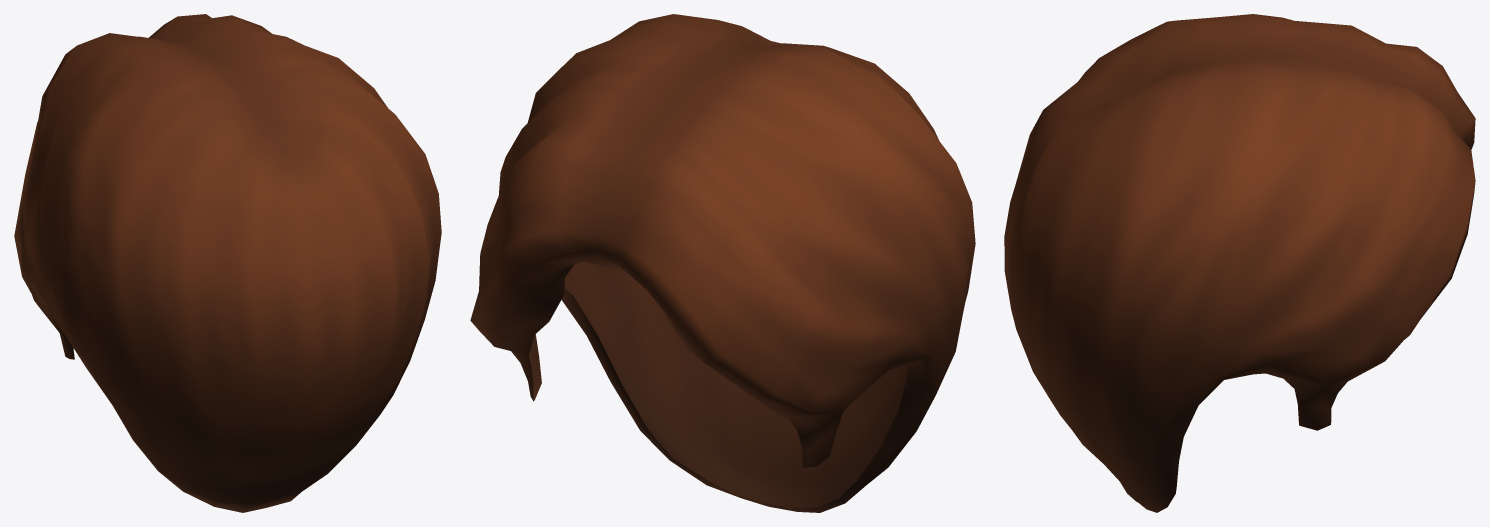
File: Hair_Male_003_textured_brown.glb
The picture shows the model from 3 angles, left to right: view 1: azimuth 30°, elevation 25°; view 2: azimuth 150°, elevation 25°; view 3: azimuth 270°, elevation 25°; orthographic projection. The views are drawn at different scales.
Visible parts, largest first — view 1: Hair_Male_003; view 2: Hair_Male_003; view 3: Hair_Male_003.
Boxes of the visible parts, box(x1,y1,x2,y2) form: Hair_Male_003: box(14, 14, 441, 512); Hair_Male_003: box(470, 14, 975, 512); Hair_Male_003: box(1004, 14, 1475, 512).
Bounding box in the file's own units: 0.2155 × 0.2438 × 0.2307.
1 material, 1 textured.
